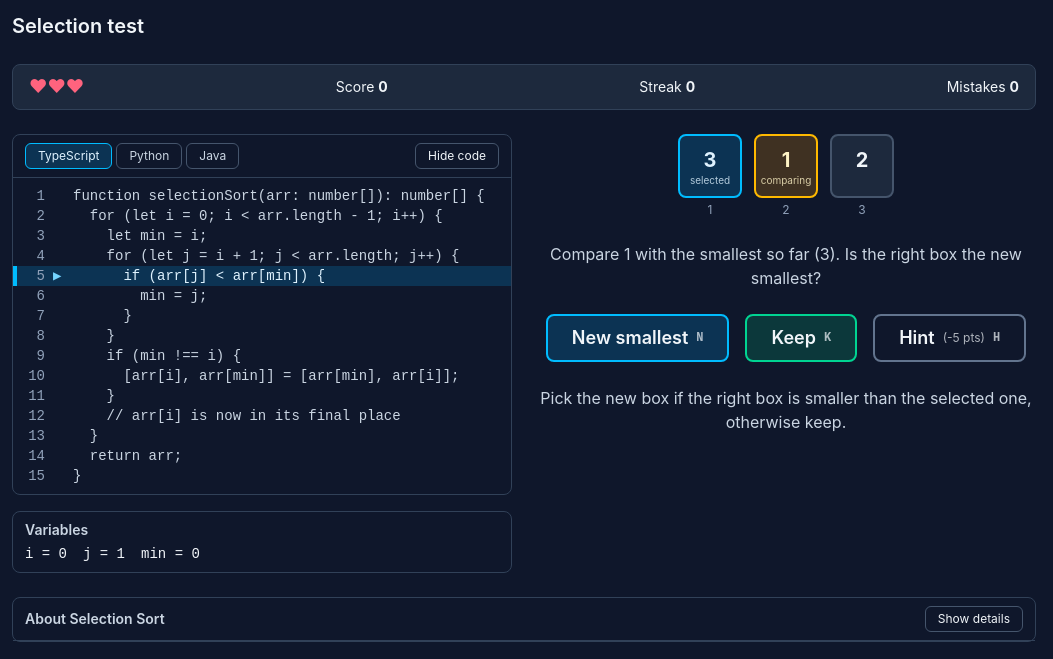
Test case: PlayScreen with selection sort › a correct answer scores and moves the selection
Click the button "New smallest N": (638, 338) x1=546 y1=314 x2=730 y2=362
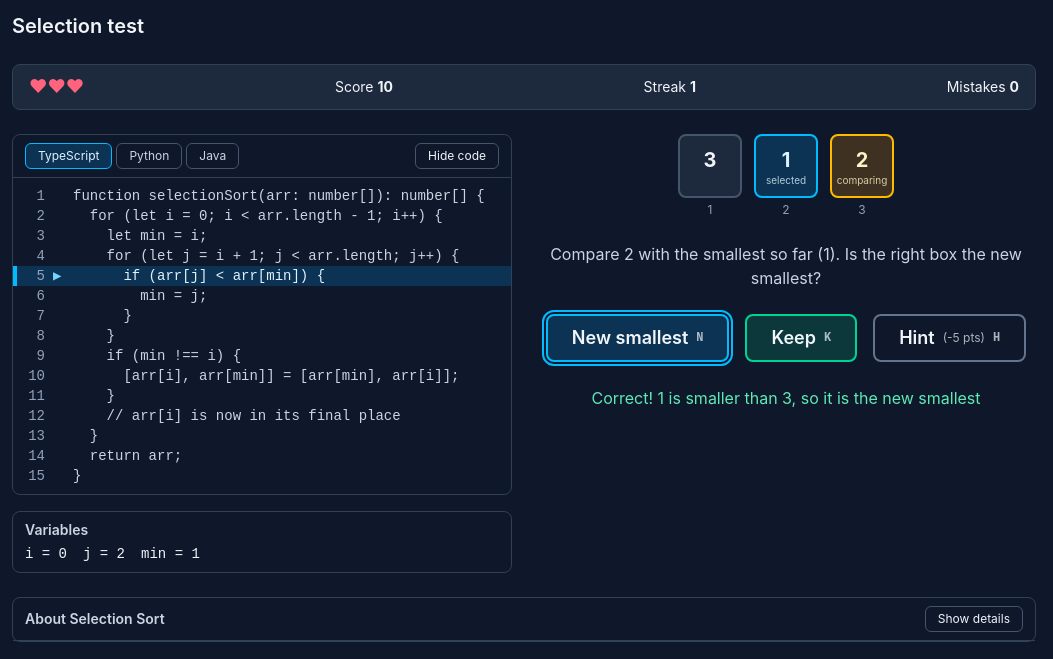
Now the element named "Game stats" shows "Score 10", box x1=12 y1=64 x2=1036 y2=110
Now the list item with aria-label "Box 2: 1, selected" is shown, box x1=754 y1=134 x2=818 y2=218
Now the list item with aria-label "Box 3: 2, comparing" is shown, box x1=830 y1=134 x2=894 y2=218
